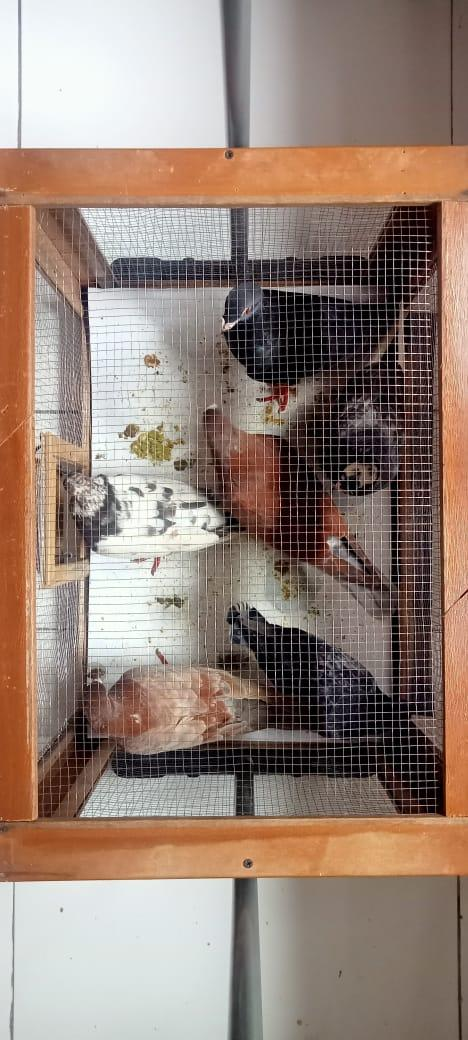Merpati: (202, 402, 402, 620), (225, 601, 400, 741), (221, 279, 390, 412), (80, 665, 313, 754), (317, 303, 406, 496), (61, 471, 247, 557)
